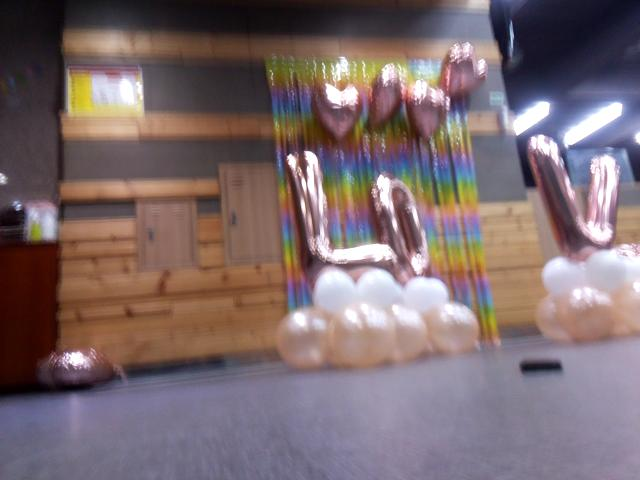wallet: (517, 357, 569, 377)
